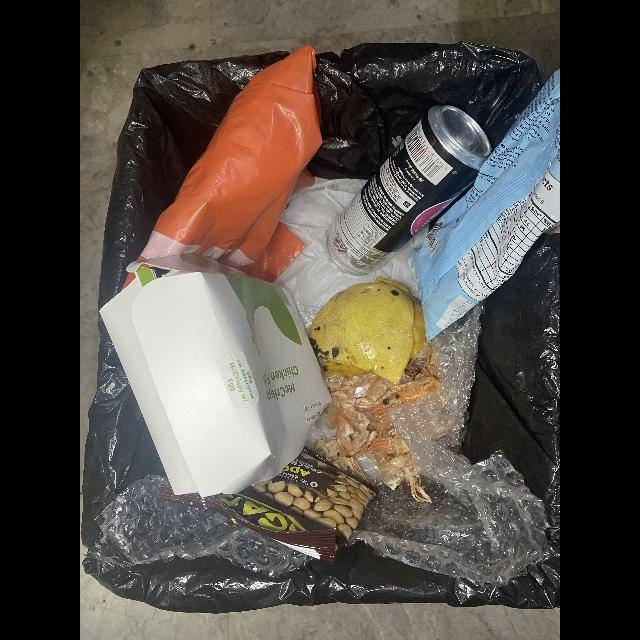aluminum: (327, 105, 492, 276)
cardboard: (100, 254, 332, 499)
food_wrapper: (410, 68, 560, 343), (159, 447, 378, 564)
left_over_food: (316, 342, 441, 503)
plastic_bag: (139, 46, 323, 284)
